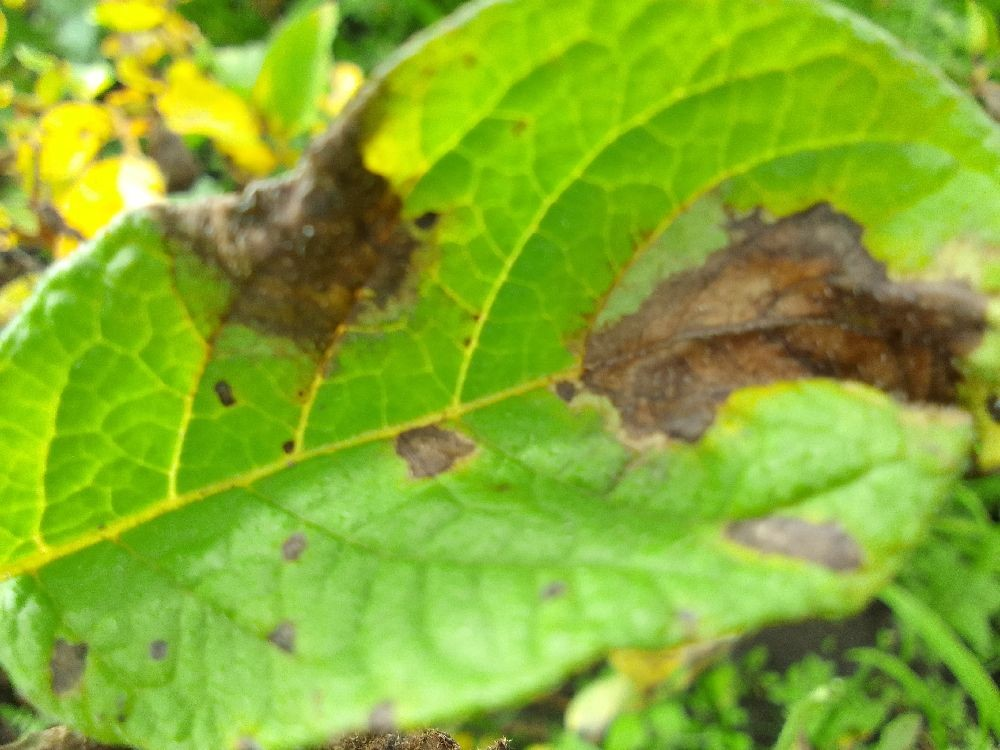late_blight: (495, 147, 1000, 507), (79, 0, 445, 397), (708, 577, 921, 750), (386, 412, 484, 486)
